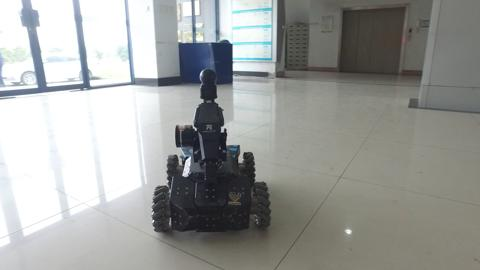chariot: (140, 65, 284, 238)
